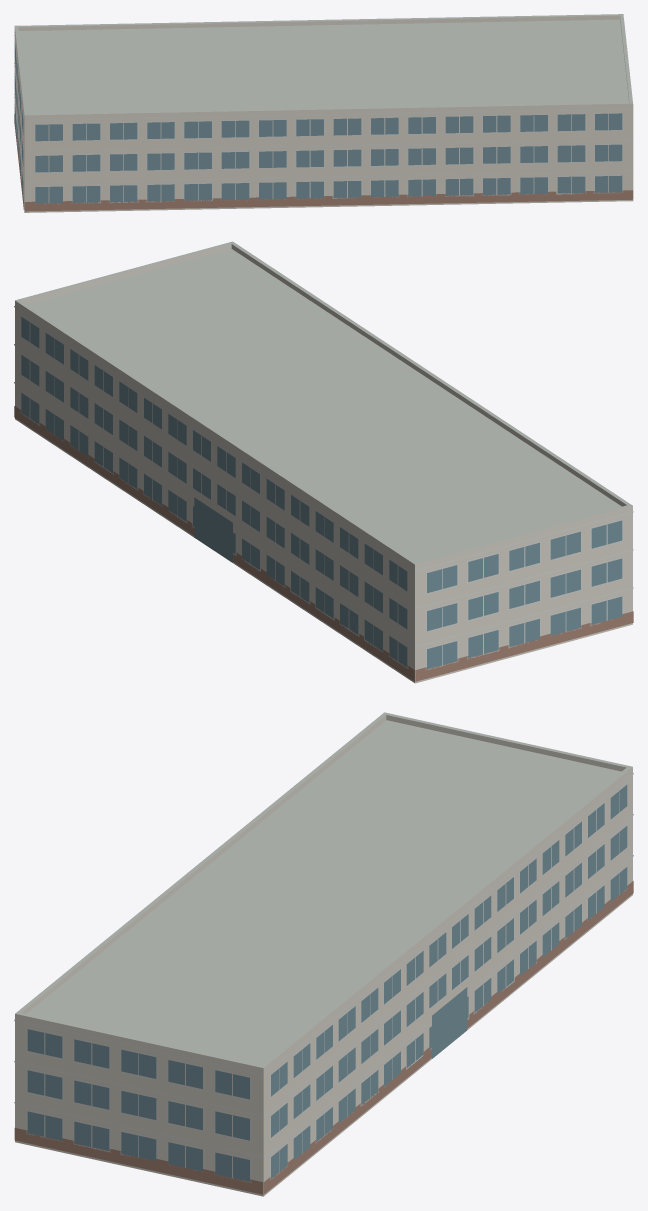
The model's file is public-e78a633c-324e-40d9-aa04-59bb48b73b77.glb.
The picture shows the model from 3 angles, top to bottom: view 1: azimuth 30°, elevation 25°; view 2: azimuth 150°, elevation 25°; view 3: azimuth 270°, elevation 25°; orthographic projection. The views are drawn at different scales.
Visible parts, largest first — view 1: public-e78a633c-324e-40d9-aa04-59bb48b73b77; view 2: public-e78a633c-324e-40d9-aa04-59bb48b73b77; view 3: public-e78a633c-324e-40d9-aa04-59bb48b73b77.
Boxes of the visible parts, bbox=[...] form: public-e78a633c-324e-40d9-aa04-59bb48b73b77: bbox=[14, 14, 633, 212]; public-e78a633c-324e-40d9-aa04-59bb48b73b77: bbox=[14, 241, 633, 683]; public-e78a633c-324e-40d9-aa04-59bb48b73b77: bbox=[14, 712, 633, 1196].
Bounding box in the file's own units: 54.46 × 9.15 × 40.01.
